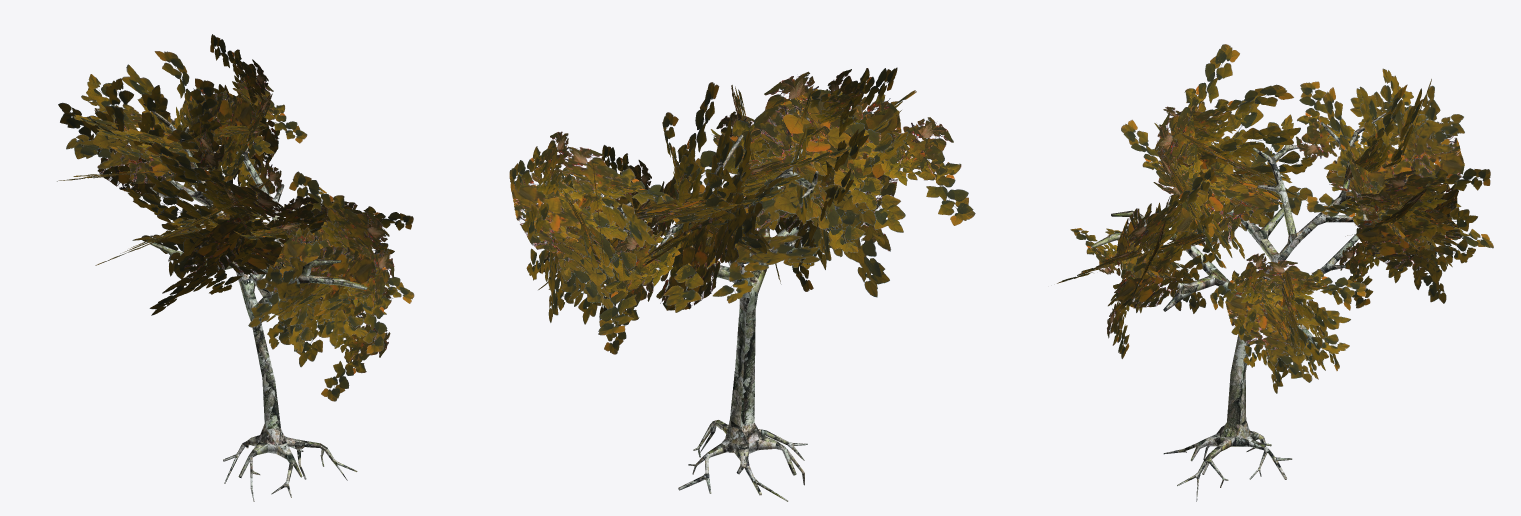
Rendered from Tree-gold.fbx.
3 renders of one model, left to right at view 1: azimuth 30°, elevation 25°; view 2: azimuth 150°, elevation 25°; view 3: azimuth 270°, elevation 25°, orthographic. The views are drawn at different scales.
Visible parts, largest first — view 1: Plane.008, Tree, Plane, Plane.024, Plane.022, Plane.004, Plane.009, Plane.005, Plane.006, Plane.013, Plane.002, Plane.010 (+8 smaller); view 2: Plane.001, Plane.014, Tree, Plane.024, Plane.020, Plane.004, Plane.012, Plane.010, Plane, Plane.023, Plane.022, Plane.003 (+5 smaller); view 3: Tree, Plane, Plane.010, Plane.005, Plane.023, Plane.002, Plane.029, Plane.024, Plane.003, Plane.025, Plane.021, Plane.027 (+13 smaller).
Part boxes in pixels (box(x1,y1,x2,y2)): Plane.008: box(256, 246, 390, 401); Tree: box(143, 103, 367, 501); Plane: box(126, 143, 290, 274); Plane.024: box(58, 78, 224, 198); Plane.022: box(66, 51, 213, 183); Plane.004: box(149, 196, 326, 315); Plane.009: box(248, 222, 394, 354); Plane.005: box(269, 171, 395, 334); Plane.006: box(273, 225, 414, 351); Plane.013: box(170, 92, 281, 220); Plane.002: box(150, 129, 252, 279); Plane.010: box(210, 34, 279, 191); Plane.001: box(746, 89, 975, 252); Plane.014: box(512, 146, 664, 309); Tree: box(548, 134, 850, 501); Plane.024: box(650, 82, 762, 310); Plane.020: box(598, 193, 820, 335); Plane.004: box(688, 71, 903, 297); Plane.012: box(549, 176, 680, 300); Plane.010: box(509, 131, 588, 322); Plane: box(782, 67, 897, 267); Plane.023: box(635, 148, 847, 224); Plane.022: box(662, 112, 770, 254); Plane.003: box(731, 90, 916, 228); Tree: box(1091, 112, 1427, 501); Plane: box(1154, 44, 1312, 246); Plane.010: box(1355, 168, 1490, 303); Plane.005: box(1113, 167, 1219, 313); Plane.023: box(1296, 81, 1464, 191); Plane.002: box(1154, 84, 1317, 218); Plane.029: box(1225, 260, 1366, 382); Plane.024: box(1323, 68, 1440, 219); Plane.003: box(1121, 117, 1287, 211); Plane.025: box(1210, 253, 1284, 393); Plane.021: box(1306, 91, 1464, 225); Plane.027: box(1266, 278, 1351, 377).
Size of the model in its own units: 643 by 694 by 747.
